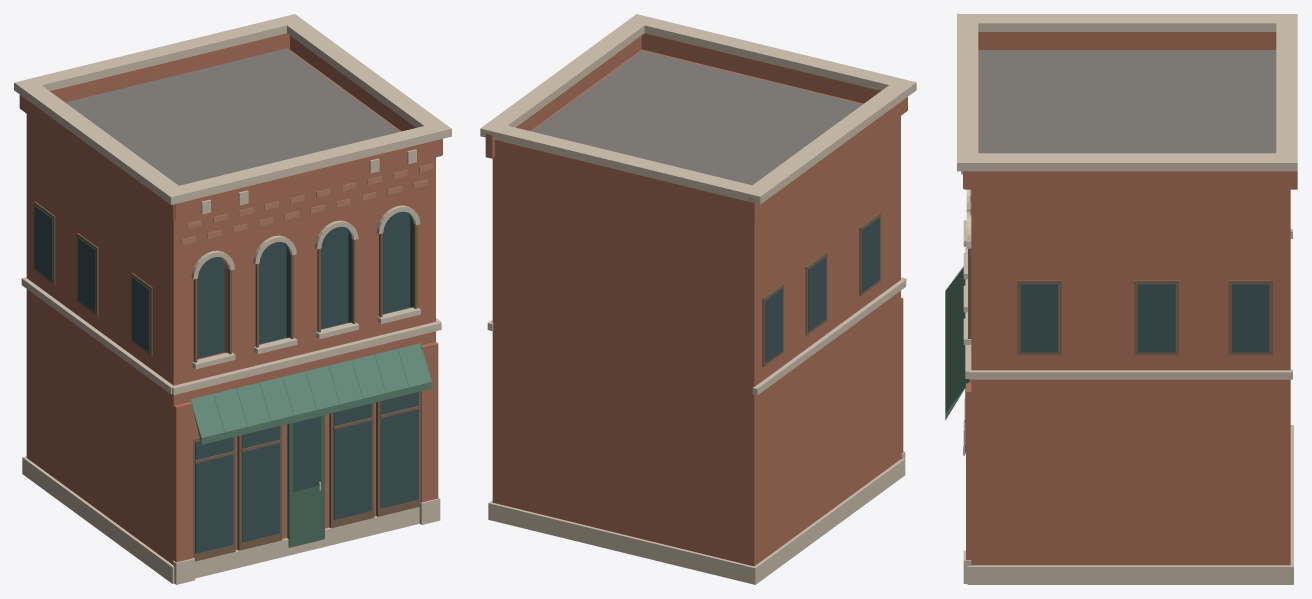
Rendered from building1.glb.
3 renders of one model, left to right at view 1: azimuth 30°, elevation 25°; view 2: azimuth 150°, elevation 25°; view 3: azimuth 270°, elevation 25°, orthographic. The views are drawn at different scales.
Parts seen in each view (by area): view 1: Building1; view 2: Building1; view 3: Building1.
Part boxes in pixels (x1=…): Building1: x1=14, y1=14, x2=451, y2=584; Building1: x1=480, y1=14, x2=916, y2=584; Building1: x1=945, y1=14, x2=1297, y2=584.
Size of the model in its own units: 6.9 by 9.2 by 6.9.
